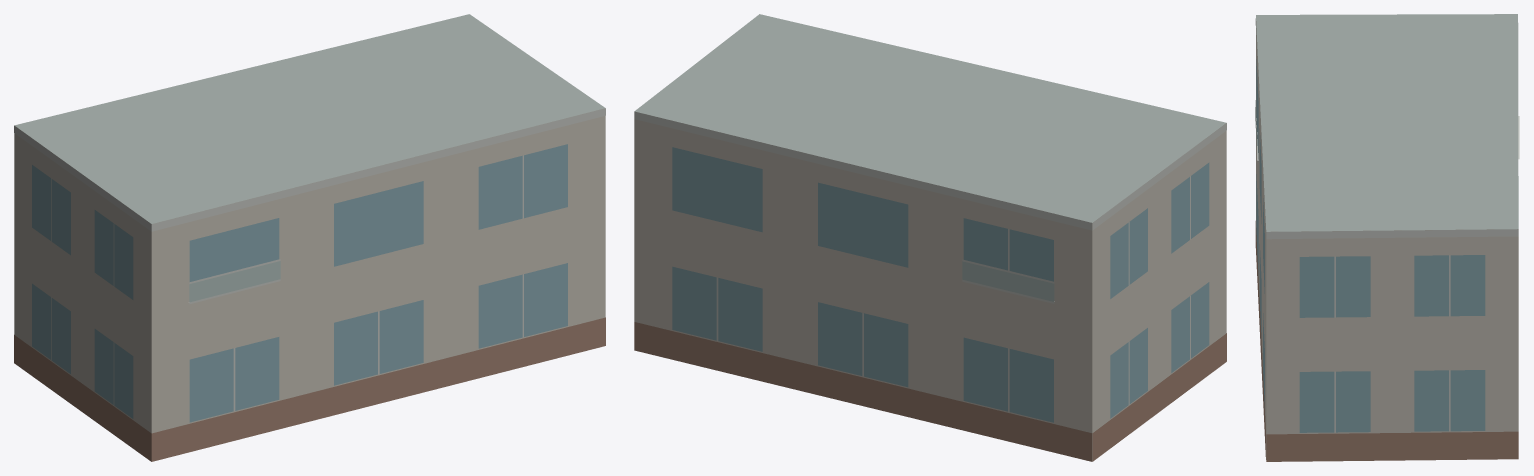
Rendered from survey-upis-32747728.glb.
3 renders of one model, left to right at view 1: azimuth 30°, elevation 25°; view 2: azimuth 150°, elevation 25°; view 3: azimuth 270°, elevation 25°, orthographic. The views are drawn at different scales.
Visible parts, largest first — view 1: survey-upis-32747728.tmp; view 2: survey-upis-32747728.tmp; view 3: survey-upis-32747728.tmp.
Part boxes in pixels (x1=…): survey-upis-32747728.tmp: x1=14, y1=14, x2=605, y2=461; survey-upis-32747728.tmp: x1=634, y1=14, x2=1226, y2=461; survey-upis-32747728.tmp: x1=1255, y1=14, x2=1519, y2=461.
Size of the model in its own units: 15.44 by 7.6 by 7.91.
